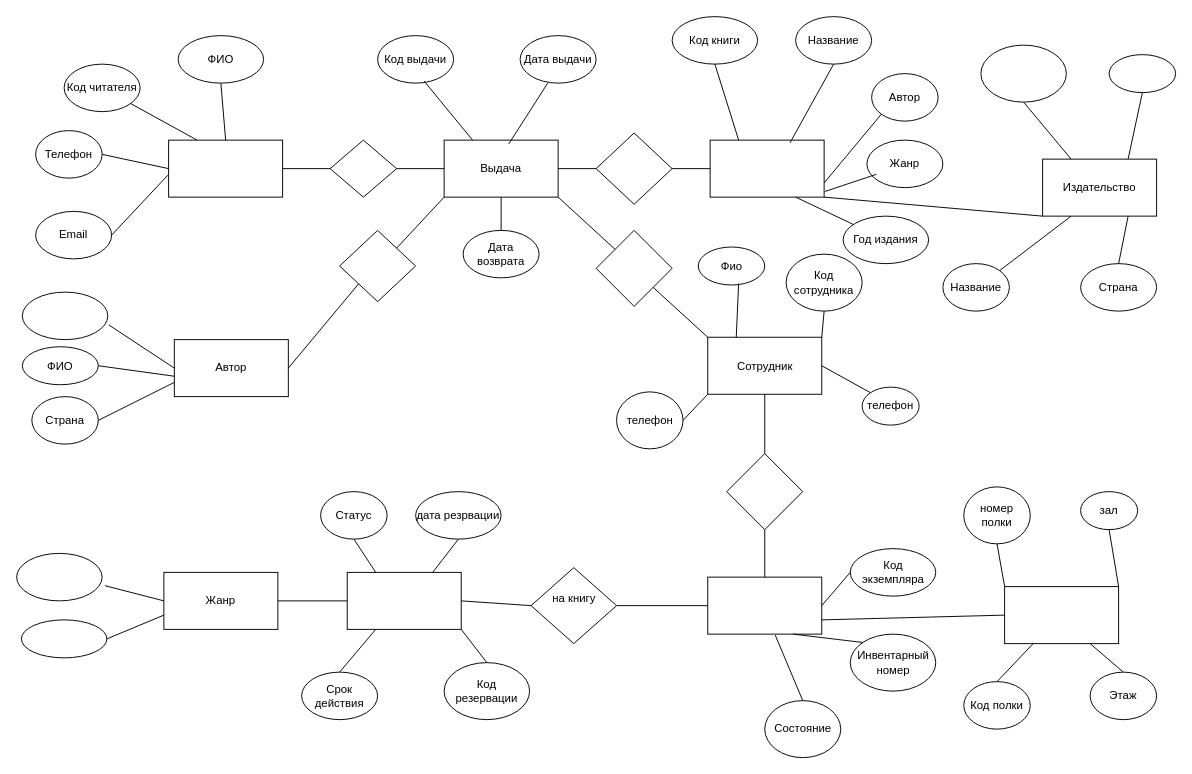
The diagram is 1192 pixels wide and 774 high, and some of its shapes have lost their labels. The shapes that lost their labels are listed below. From the top down, each one's box as (x1, y1, x2, y2) in pixels, then its label:
(980, 44, 1066, 102): Код издательство
(1108, 54, 1176, 93): Город
(168, 139, 283, 197): Читатель
(329, 139, 397, 197): Берет
(595, 132, 672, 204): Связано с
(709, 139, 824, 197): Книга
(339, 229, 416, 302): Пишет
(595, 229, 672, 306): Выдает
(21, 291, 108, 340): Код автора
(726, 453, 803, 530): хранится в
(16, 552, 102, 601): Код жанра
(346, 571, 461, 629): Резервация
(707, 576, 822, 634): Экземпляр
(1004, 586, 1119, 644): Полка
(20, 619, 107, 658): Название жанра
